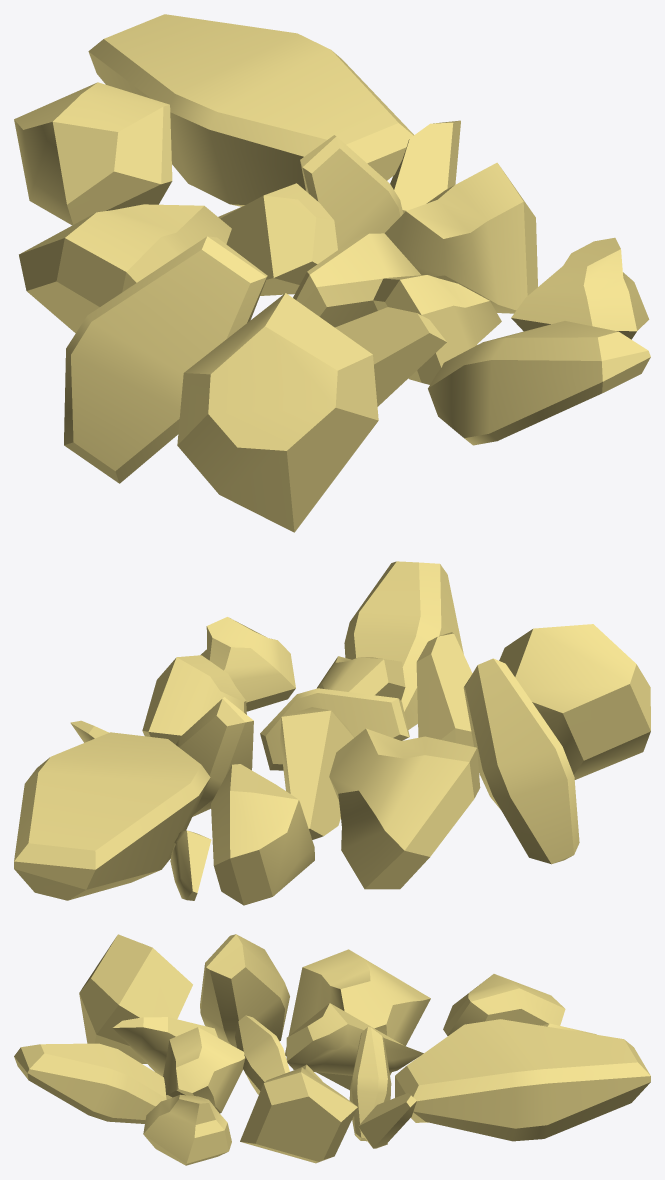
The model's file is dixing10.FBX.
3 renders of one model, top to bottom at view 1: azimuth 30°, elevation 25°; view 2: azimuth 150°, elevation 25°; view 3: azimuth 270°, elevation 25°, orthographic. The views are drawn at different scales.
Visible parts, largest first — view 1: Rocks03; view 2: Rocks03; view 3: Rocks03.
Part boxes in pixels (x1=…): Rocks03: x1=14, y1=14, x2=650, y2=532; Rocks03: x1=14, y1=561, x2=650, y2=905; Rocks03: x1=14, y1=934, x2=650, y2=1165.
Bounding box in the file's own units: 4.75 × 1.97 × 7.62.
